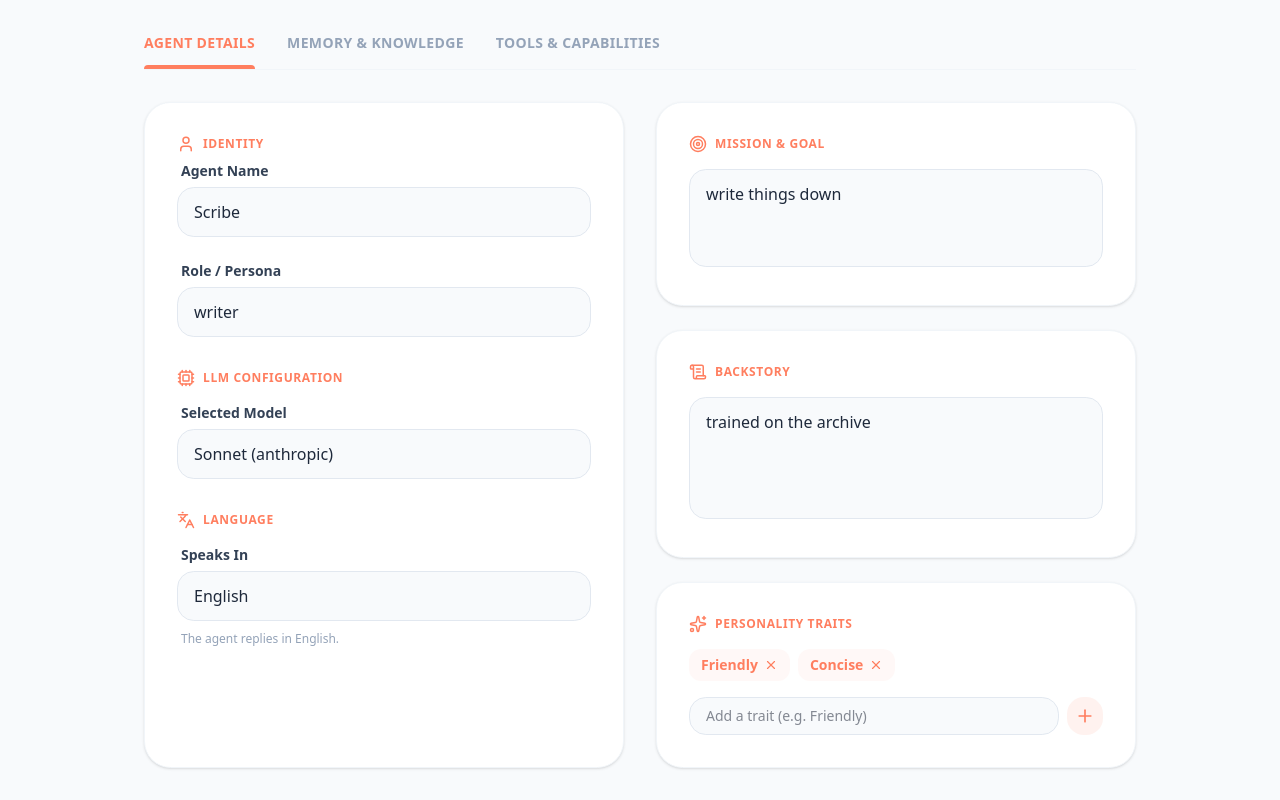
Test: AgentEditForm › personality traits › adds one
(page scrolled)
Expected: the field showing "Scribe" is shown, x1=177 y1=187 x2=591 y2=237
In the field with placeholder "Add a trait (e.g. Friendly)": (874,716) x1=689 y1=697 x2=1059 y2=735, type "Curious"
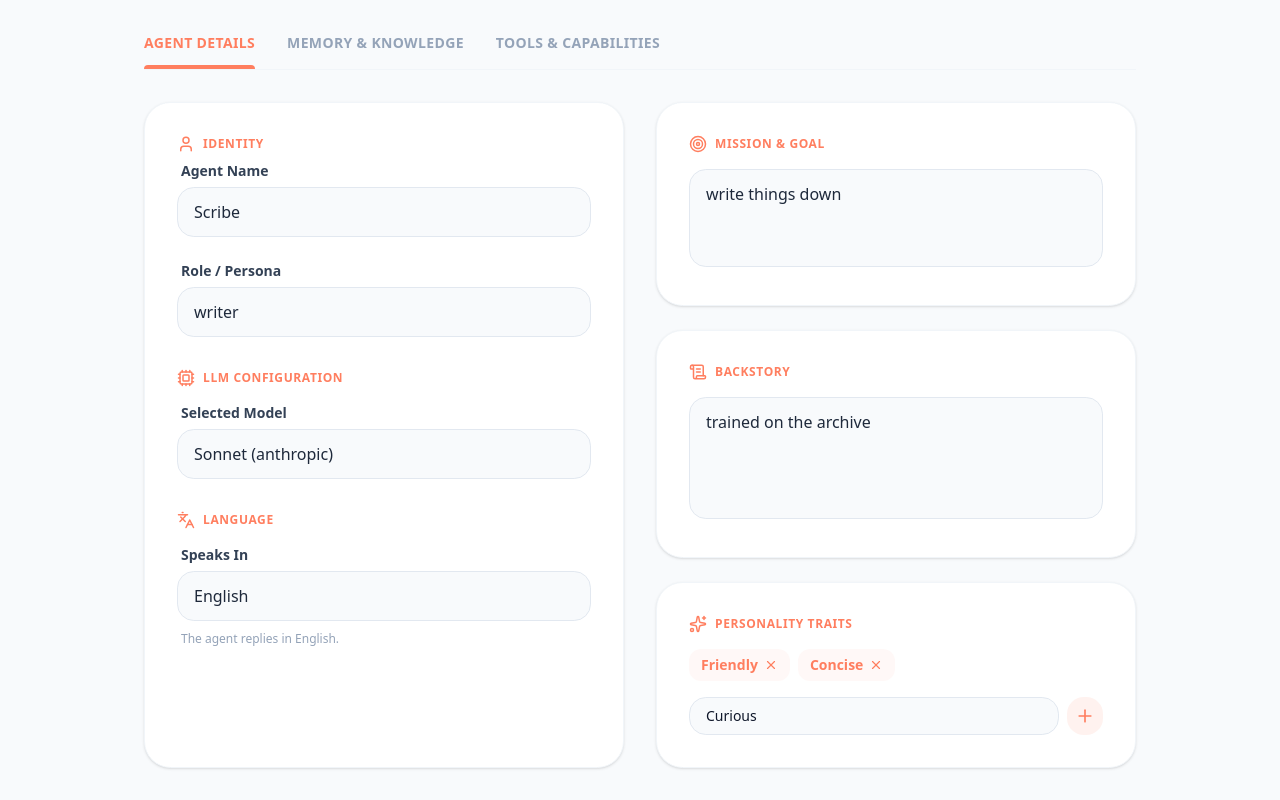
Click the 6th button: (1085,716) x1=1067 y1=697 x2=1103 y2=735
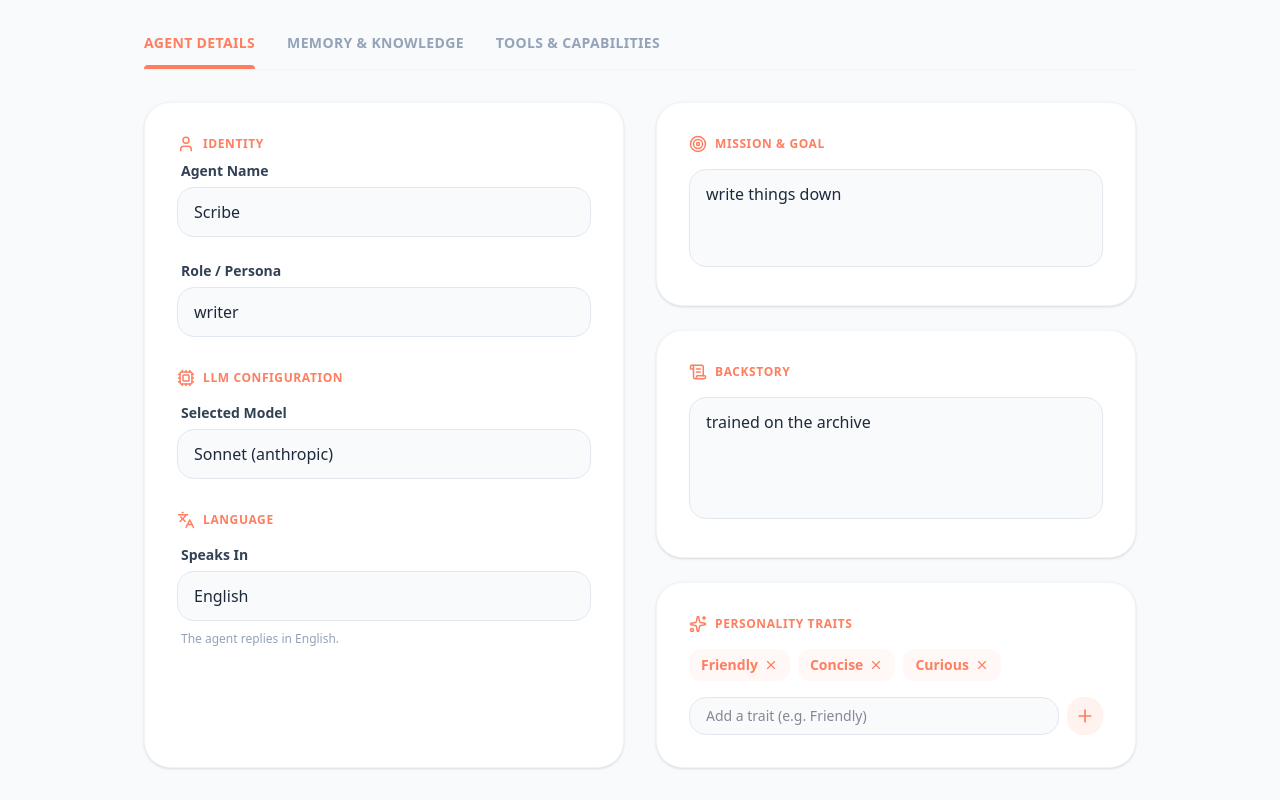
Expected: the text "Curious" is shown, x1=903 y1=649 x2=1001 y2=681
